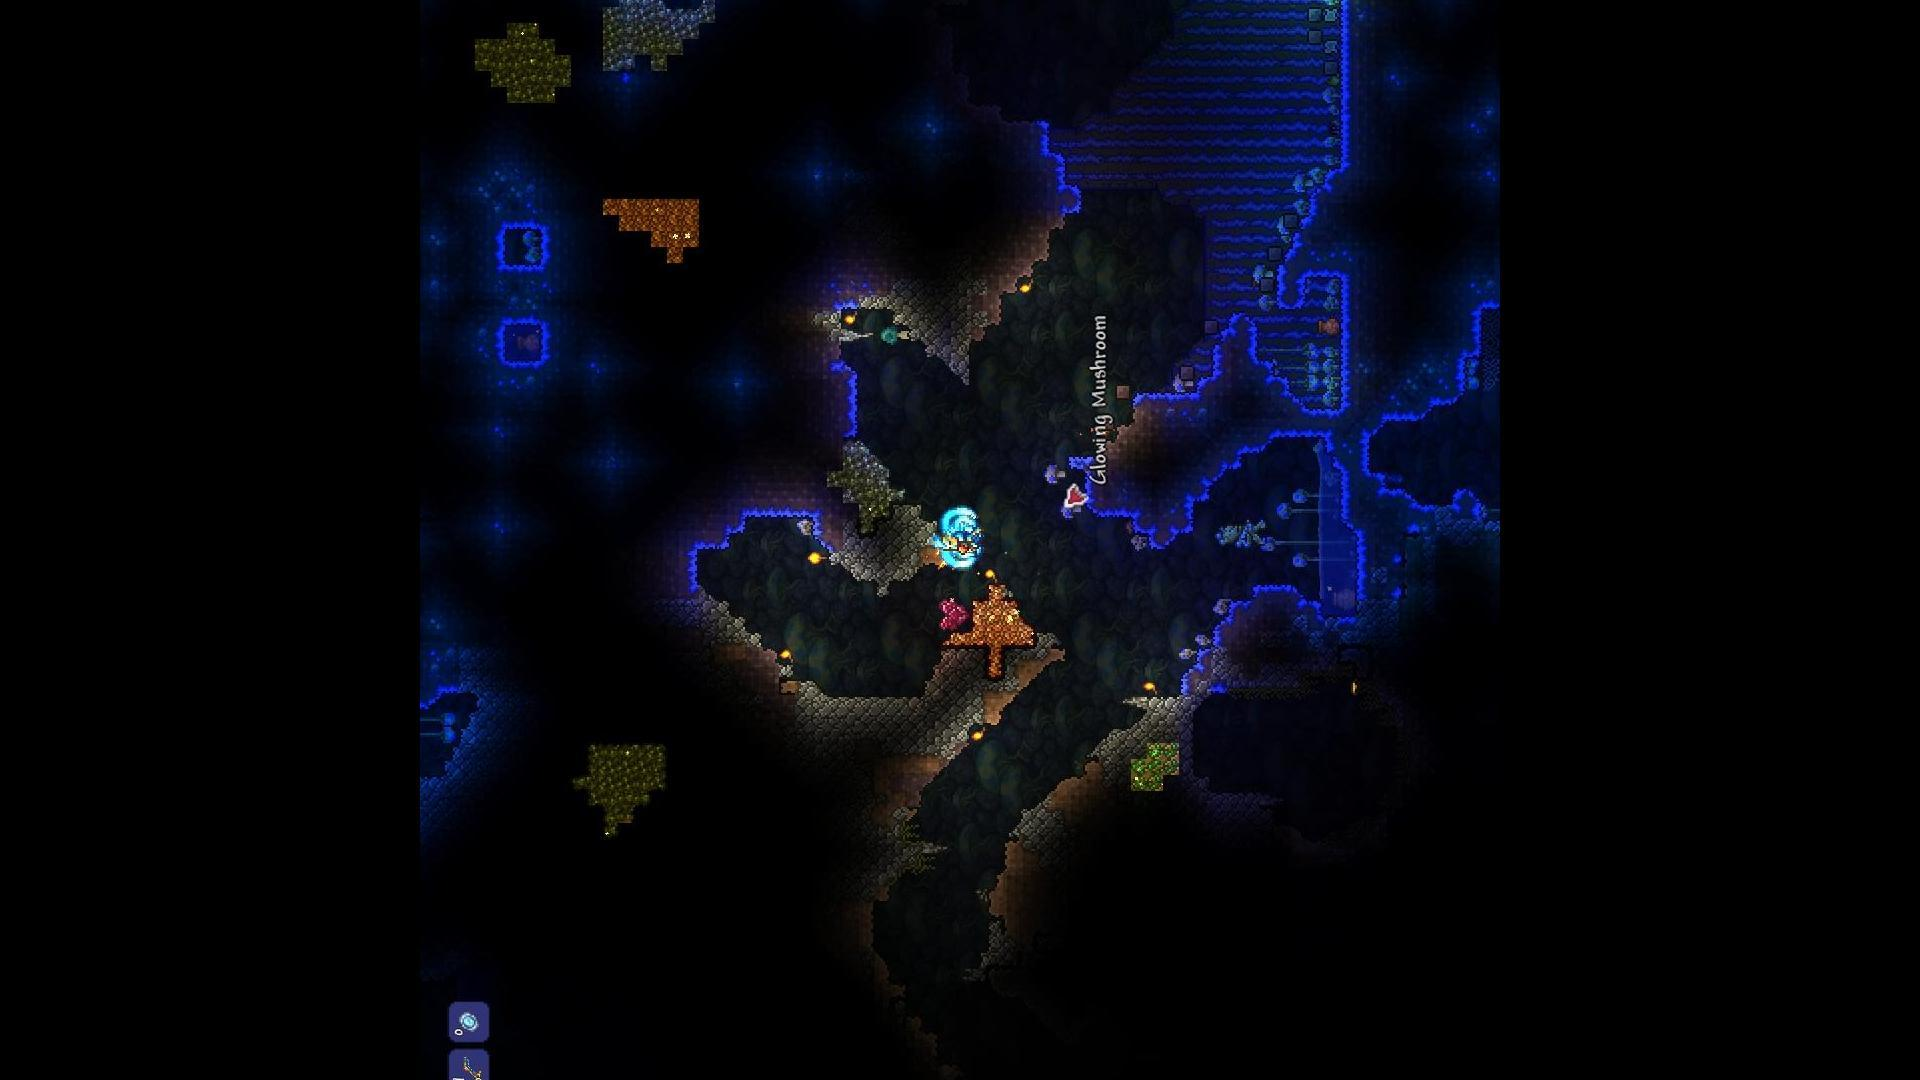lifeC: (939, 592, 977, 633)
